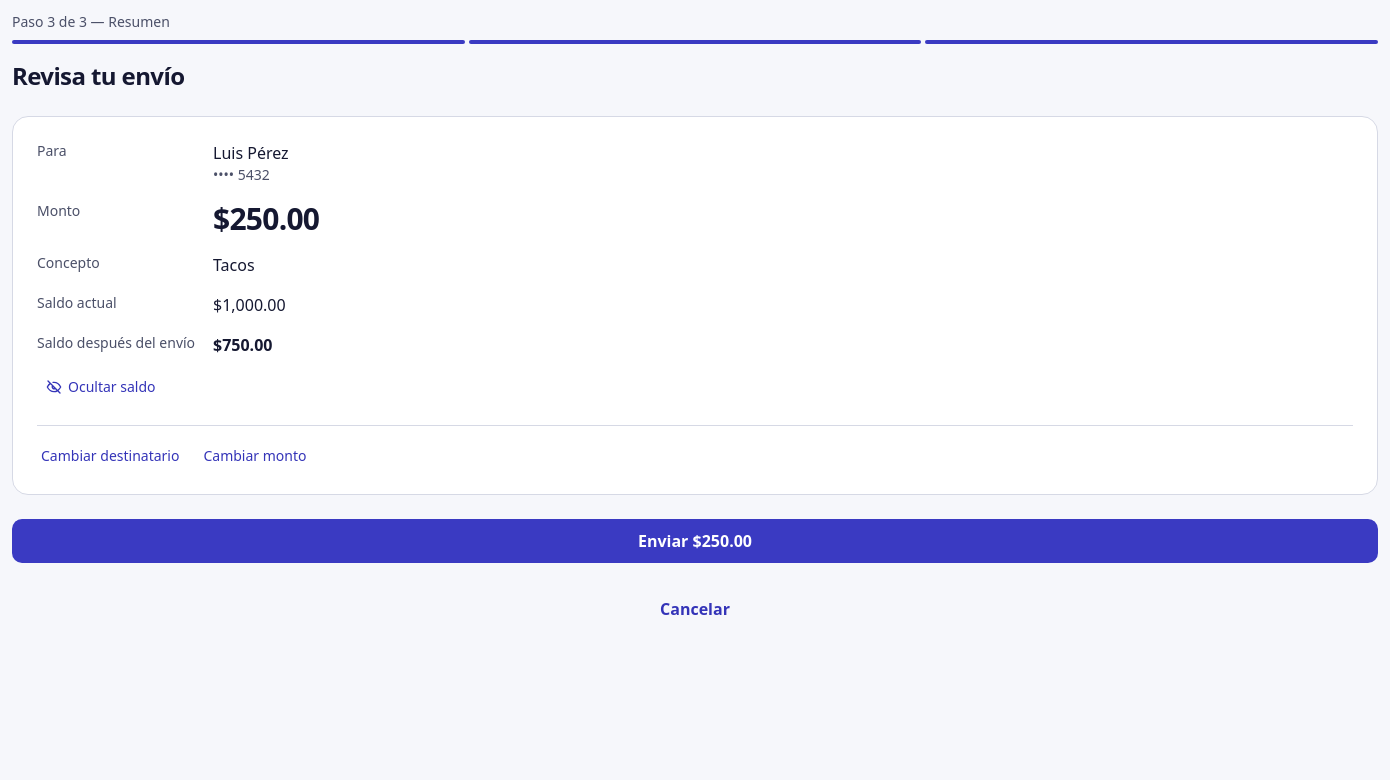
Test case: [TC-COMP-14] Confirmation views › server rule violation: specific message and "Cambiar datos"
This screenshot has width=1390, height=780.
What coordinates should you click on to do the following:
click the button "Enviar $250.00"
I would click on:
 (695, 541)
Its box is [12,519,1378,563].
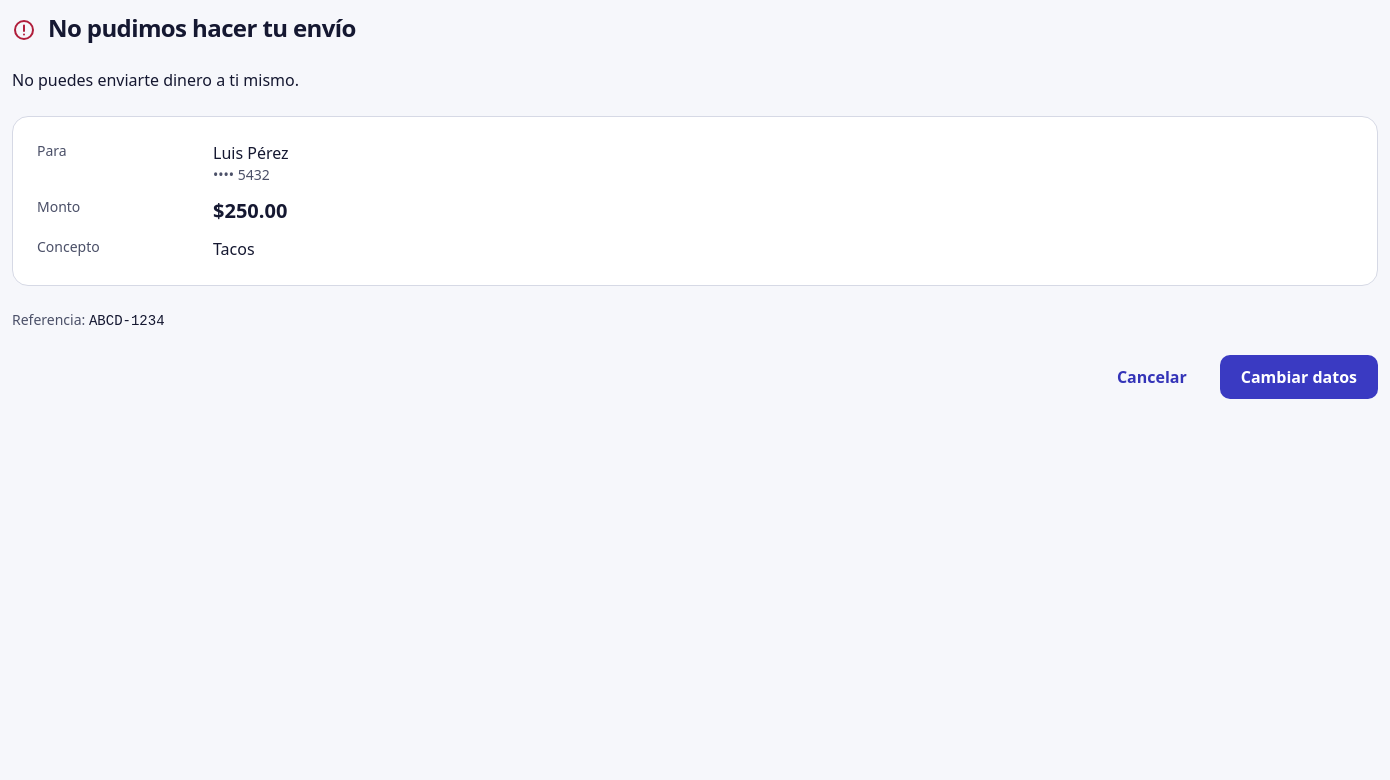
Check: the text "No puedes enviarte dinero a ti mismo." is shown, box [12,69,299,91]
Check: the button "Cambiar datos" is shown, box [1220,355,1378,399]
